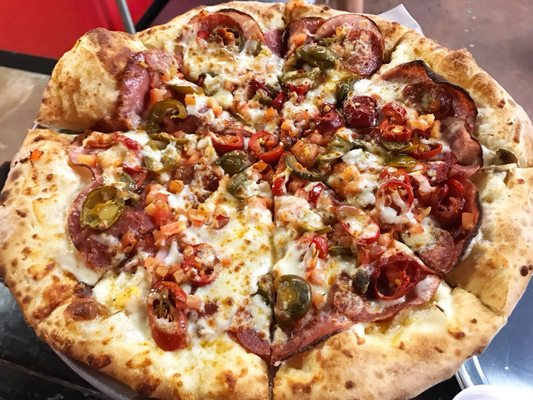sandwich: (5, 0, 533, 399)
